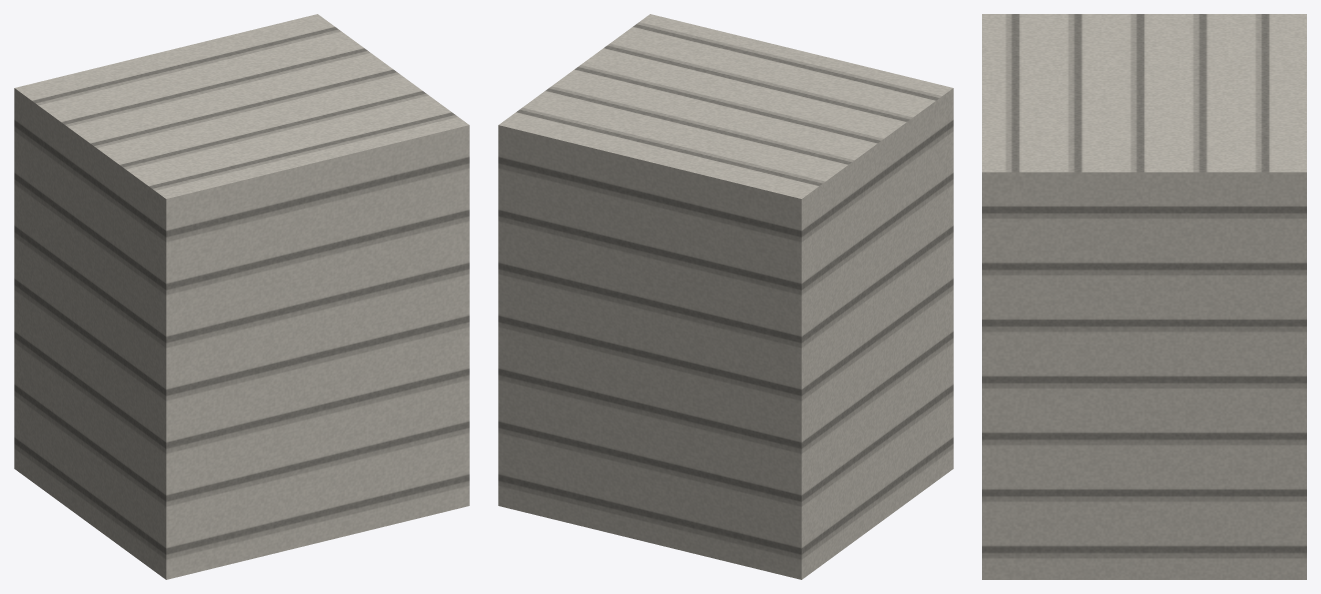
The model's file is stove_range.glb.
The picture shows the model from 3 angles, left to right: view 1: azimuth 30°, elevation 25°; view 2: azimuth 150°, elevation 25°; view 3: azimuth 270°, elevation 25°; orthographic projection. The views are drawn at different scales.
Parts seen in each view (by area): view 1: stove_range-col; view 2: stove_range-col; view 3: stove_range-col.
Part boxes in pixels (x1,y1,x2,y2): stove_range-col: (14,14,469,579); stove_range-col: (498,14,953,579); stove_range-col: (982,14,1306,579).
Bounding box in the file's own units: 0.75 × 0.9 × 0.65.
Materials: 1 (1 with a texture image).
